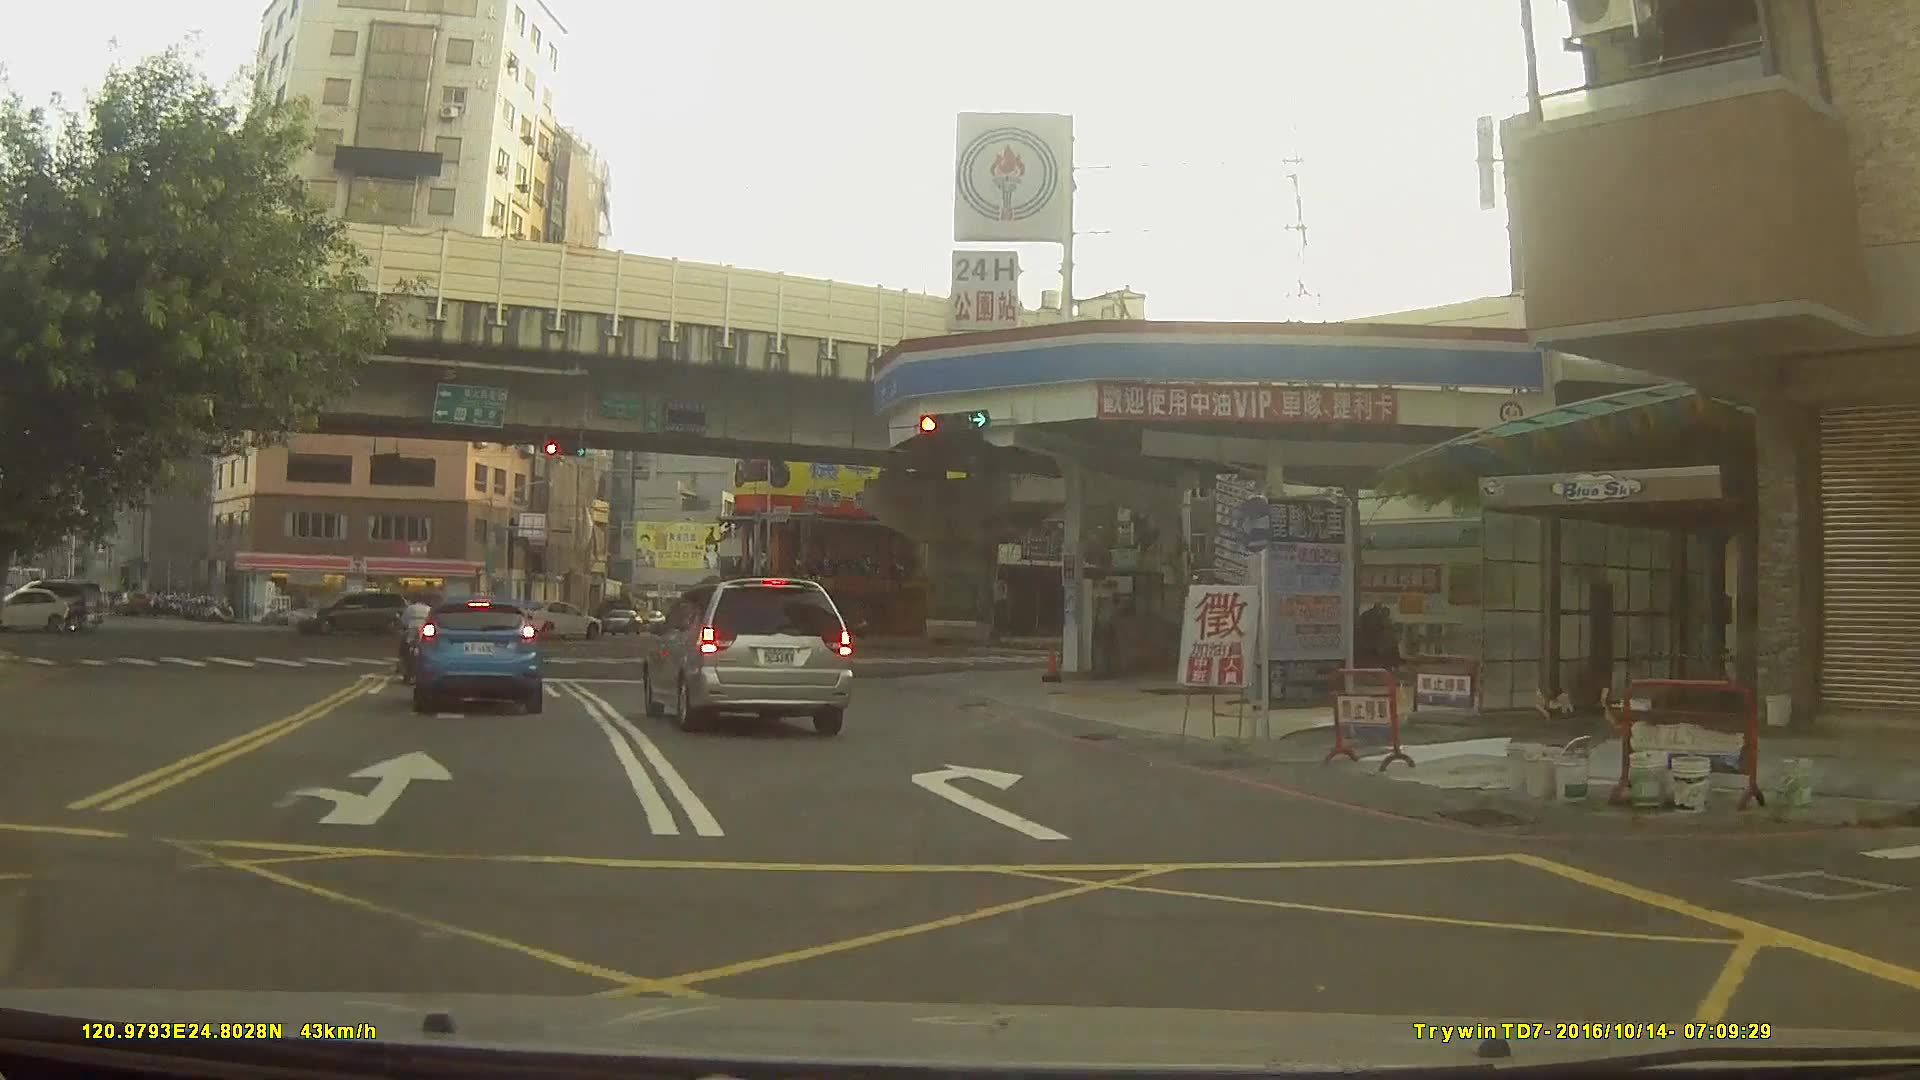rider: (397, 594, 436, 677), (55, 600, 89, 634)
vehicle: (644, 575, 853, 735), (408, 595, 543, 714), (291, 592, 410, 640), (510, 599, 602, 641), (0, 587, 79, 634)
